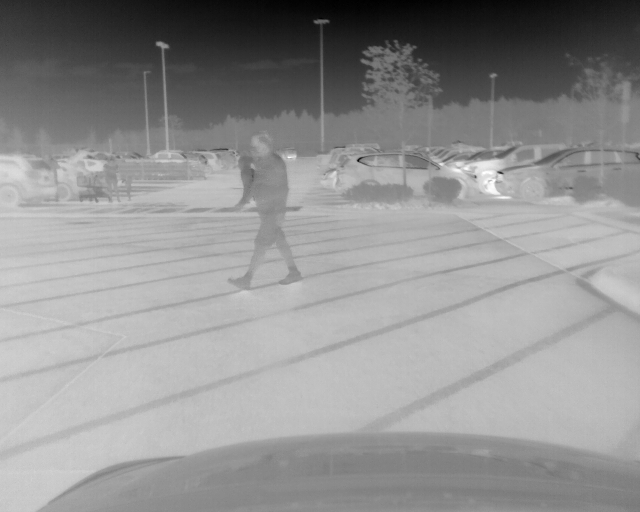car: (493, 145, 640, 205), (335, 152, 477, 200), (451, 142, 580, 193), (1, 154, 58, 211), (53, 162, 90, 200), (152, 148, 208, 168), (202, 150, 225, 176), (277, 147, 297, 162)
people: (227, 132, 303, 292), (102, 156, 122, 202), (237, 150, 253, 204), (119, 156, 133, 200)
